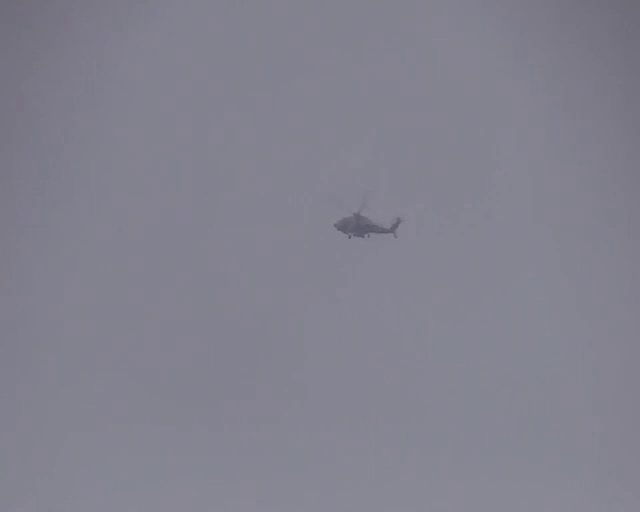HELICOPTER: (333, 192, 403, 239)
